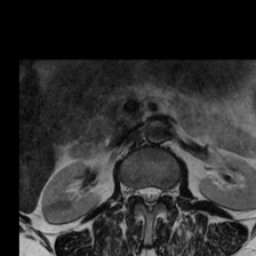CCS_normal: (144, 177, 152, 216)
LFS_normal: (160, 179, 170, 203)
LLS_normal: (152, 177, 160, 208)
RFS_normal: (130, 178, 138, 204)
RLS_normal: (138, 179, 144, 208)
